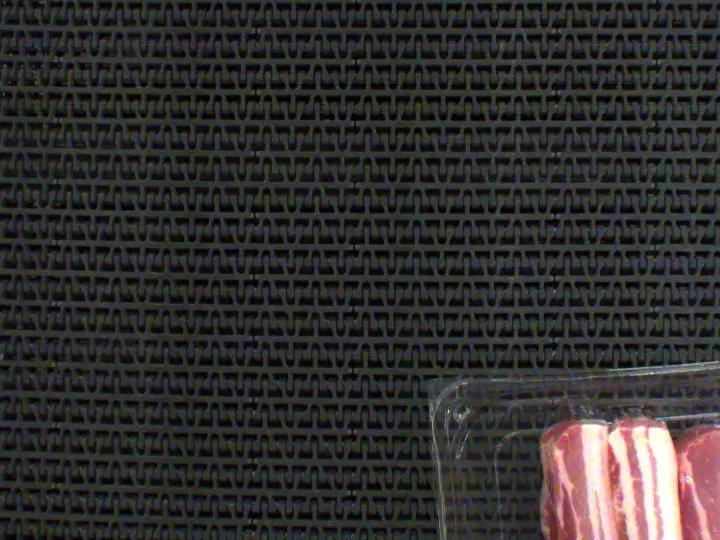packaging-error: (542, 396, 666, 424)
